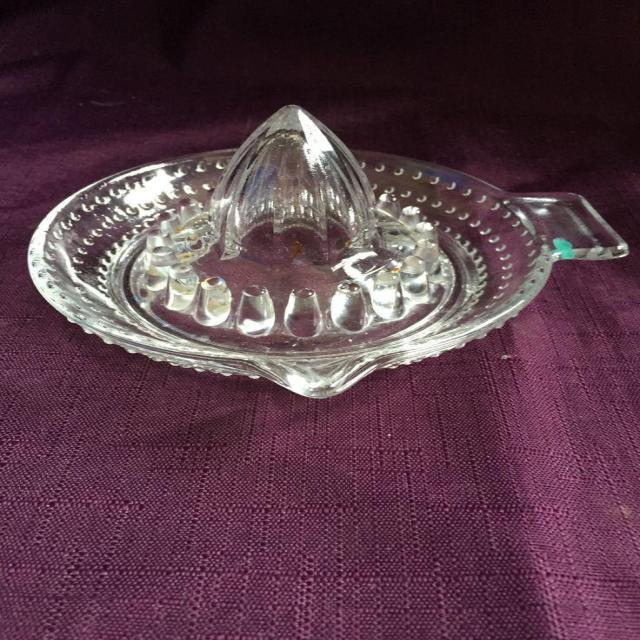Glass: (26, 101, 632, 401)
